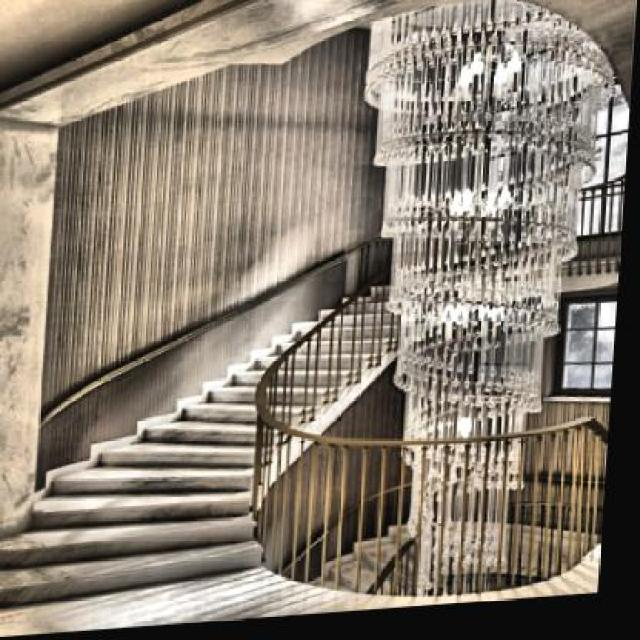stair: (75, 314, 392, 488)
